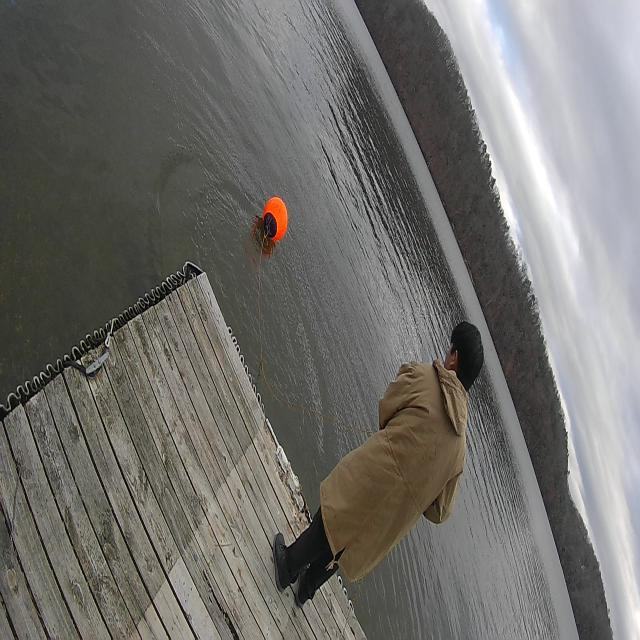Buoy: (258, 190, 291, 248)
